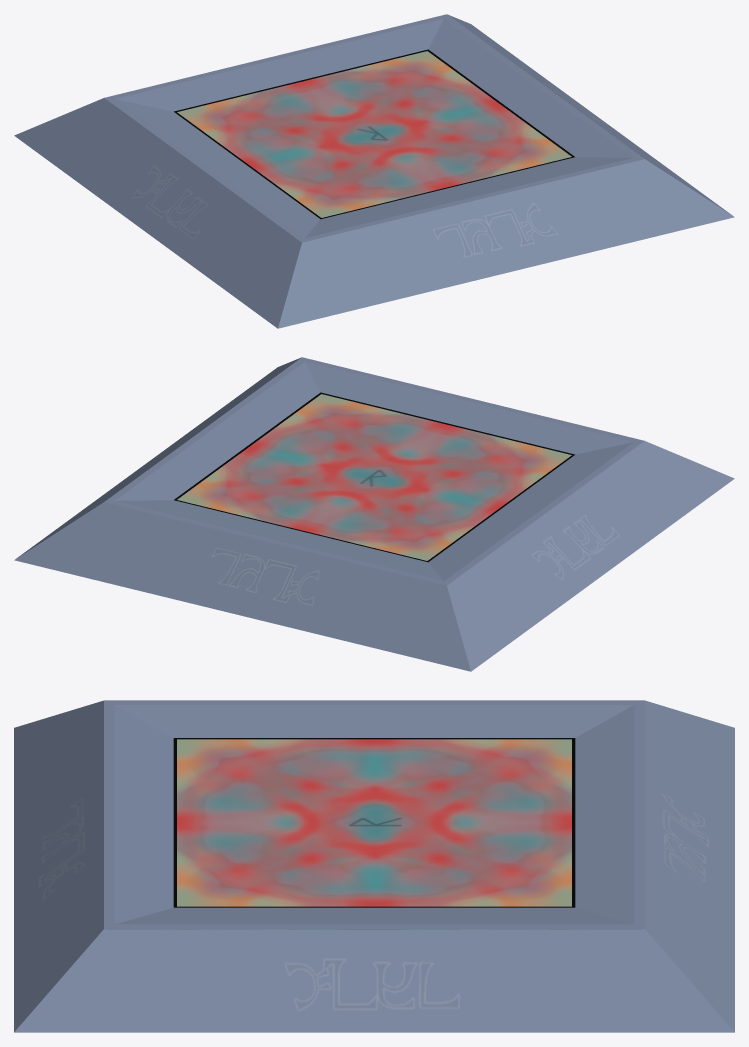
File: StartPlate.glb
The picture shows the model from 3 angles, top to bottom: view 1: azimuth 30°, elevation 25°; view 2: azimuth 150°, elevation 25°; view 3: azimuth 270°, elevation 25°; orthographic projection. The views are drawn at different scales.
Visible parts, largest first — view 1: pad; view 2: pad; view 3: pad.
Part boxes in pixels (x1,y1,x2,y2): pad: (14, 14, 734, 328); pad: (14, 357, 734, 671); pad: (14, 700, 734, 1032).
Size of the model in its own units: 2 by 0.2006 by 2.
Materials: 3 (1 with a texture image).
